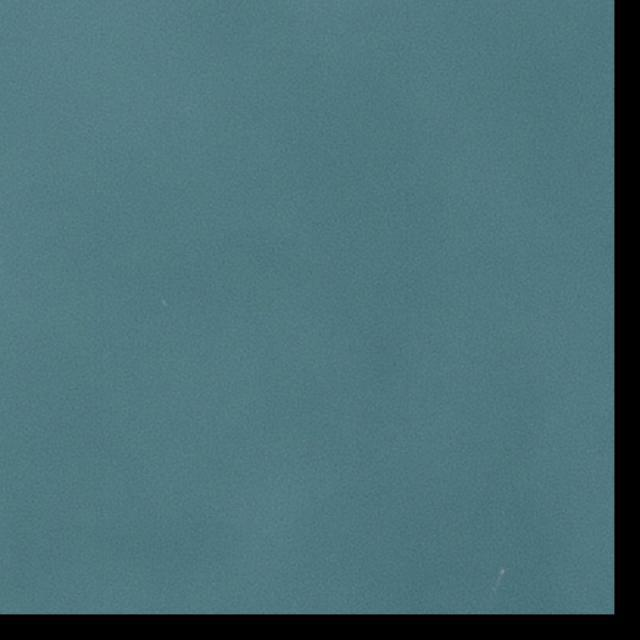ship: (500, 568, 506, 576)
